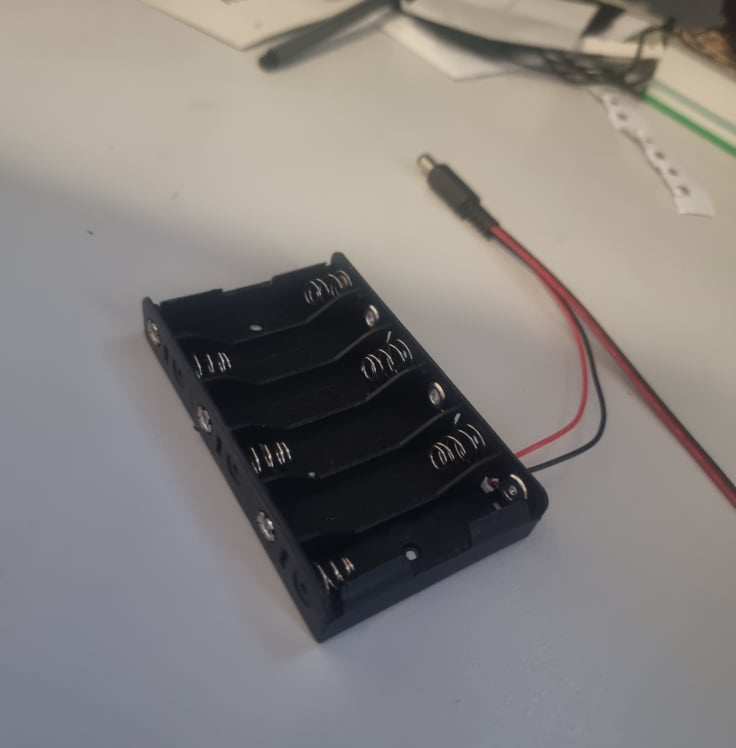BATTERY BOX: (144, 251, 551, 647)
